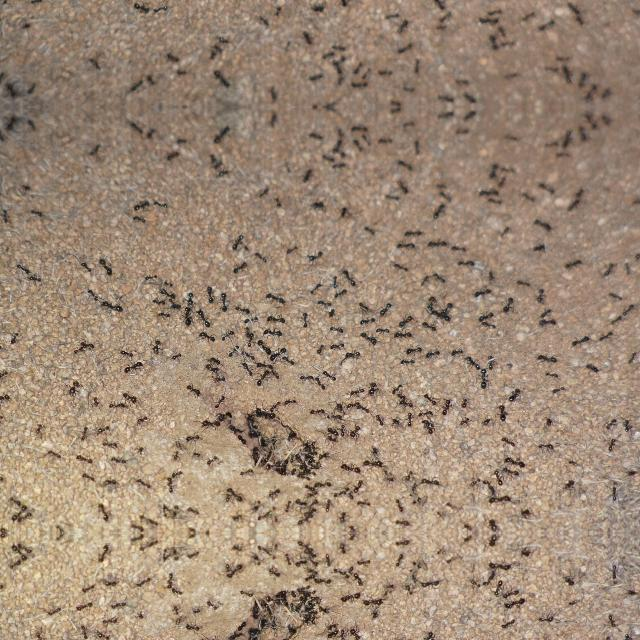Messor: (564, 182, 586, 212), (70, 334, 100, 356), (222, 228, 244, 258), (564, 1, 586, 30), (210, 120, 232, 148), (210, 64, 232, 92), (248, 8, 272, 32), (248, 180, 272, 203), (128, 192, 148, 218), (486, 490, 514, 508), (533, 346, 557, 366), (100, 298, 130, 314), (2, 110, 22, 134), (2, 78, 22, 102), (566, 333, 592, 351), (119, 359, 145, 377), (262, 108, 278, 136), (486, 558, 514, 574), (262, 76, 278, 104), (341, 454, 361, 476), (125, 114, 145, 136), (125, 76, 145, 98), (264, 288, 288, 306), (538, 171, 556, 195), (502, 452, 526, 470), (356, 328, 380, 346), (60, 379, 84, 397), (538, 17, 556, 41), (506, 384, 530, 401), (341, 590, 361, 610), (128, 0, 148, 20), (307, 277, 325, 299), (306, 241, 324, 263), (471, 282, 493, 300), (483, 350, 501, 372), (476, 366, 492, 390), (502, 596, 526, 612), (270, 343, 290, 362), (466, 351, 484, 372), (599, 288, 625, 302), (98, 496, 112, 522), (396, 226, 426, 238), (532, 214, 552, 232), (257, 504, 277, 522), (22, 115, 42, 133), (257, 543, 277, 561), (16, 540, 36, 558), (22, 79, 42, 97), (342, 265, 358, 287), (203, 452, 225, 468), (132, 410, 154, 426), (76, 256, 92, 278), (253, 244, 269, 266), (500, 586, 522, 602), (203, 597, 225, 613), (499, 296, 518, 314), (553, 146, 577, 160), (405, 411, 419, 435), (172, 438, 186, 462), (198, 304, 212, 328), (553, 52, 577, 66), (362, 596, 390, 608), (172, 603, 186, 627), (98, 544, 112, 568), (183, 300, 194, 330), (419, 418, 437, 436), (496, 616, 514, 634), (560, 125, 574, 148), (348, 132, 364, 152), (382, 415, 402, 431), (199, 414, 219, 430), (16, 508, 36, 524), (228, 258, 248, 274), (348, 60, 364, 80), (432, 108, 458, 120), (71, 452, 97, 464), (432, 92, 458, 104), (71, 601, 97, 613), (500, 464, 522, 478), (18, 255, 32, 277), (560, 64, 574, 86), (492, 404, 510, 421), (19, 174, 36, 192), (19, 20, 36, 38), (390, 239, 420, 249), (298, 164, 314, 182), (564, 254, 582, 270), (452, 256, 476, 268), (496, 432, 514, 448), (296, 511, 314, 527), (184, 380, 202, 396), (184, 428, 200, 446), (12, 504, 28, 522), (134, 476, 158, 488), (238, 360, 254, 378), (140, 266, 156, 284), (0, 206, 16, 224), (154, 192, 170, 210), (298, 30, 314, 48), (296, 538, 314, 554), (76, 582, 100, 594), (134, 577, 158, 589), (154, 2, 170, 20), (280, 242, 300, 256), (396, 158, 416, 172), (393, 180, 413, 194), (344, 346, 364, 360), (422, 475, 442, 489), (362, 458, 390, 468), (217, 330, 237, 344), (98, 256, 112, 276), (396, 40, 416, 54), (393, 18, 413, 32), (422, 576, 442, 590), (320, 548, 334, 568), (609, 481, 621, 504), (268, 194, 282, 213), (481, 196, 505, 207), (536, 316, 558, 328), (534, 438, 556, 450), (605, 410, 617, 432), (194, 330, 216, 342), (534, 615, 556, 627), (609, 562, 621, 584), (305, 125, 325, 138), (331, 132, 344, 152), (476, 187, 502, 197), (336, 422, 349, 442), (235, 466, 255, 479), (331, 60, 344, 80), (476, 15, 502, 25), (583, 112, 599, 128), (424, 347, 440, 363), (397, 312, 413, 328), (130, 516, 146, 532), (583, 84, 599, 100), (564, 596, 580, 612), (560, 574, 576, 590), (184, 620, 200, 636), (130, 533, 146, 549), (12, 544, 28, 560), (77, 623, 92, 640), (267, 0, 282, 17), (410, 138, 424, 156), (576, 122, 590, 140), (604, 259, 618, 277), (622, 412, 634, 433), (433, 270, 451, 284), (483, 476, 497, 494), (332, 486, 350, 500), (320, 498, 334, 516), (78, 424, 92, 442), (206, 352, 224, 366), (255, 368, 269, 386), (86, 142, 104, 156), (410, 56, 424, 74), (576, 72, 590, 90), (483, 571, 497, 589), (332, 565, 350, 579), (86, 56, 104, 70), (330, 160, 350, 172), (458, 109, 478, 121), (382, 189, 402, 201), (390, 260, 410, 272), (431, 200, 443, 220), (435, 191, 455, 203), (440, 396, 452, 416), (305, 408, 329, 418), (76, 472, 100, 482), (100, 437, 120, 449), (244, 329, 256, 349), (218, 292, 228, 316), (305, 74, 325, 86), (458, 91, 478, 103), (382, 11, 402, 23), (435, 9, 455, 21), (481, 6, 505, 16), (235, 586, 255, 598), (100, 616, 120, 628), (449, 242, 467, 255), (212, 157, 230, 170), (212, 41, 230, 54), (432, 178, 451, 190), (499, 162, 518, 174), (224, 487, 243, 499), (109, 455, 128, 467), (432, 22, 451, 34), (224, 566, 243, 578), (109, 598, 128, 610), (333, 283, 347, 299), (362, 222, 376, 238), (358, 132, 372, 148), (376, 132, 392, 146), (516, 274, 532, 288), (622, 302, 636, 318), (598, 326, 614, 340), (550, 380, 564, 396), (564, 454, 580, 468), (560, 476, 576, 490), (408, 341, 422, 357), (427, 292, 441, 308), (347, 384, 363, 398), (372, 413, 386, 429), (265, 510, 279, 526), (268, 486, 282, 502), (214, 394, 228, 410), (101, 475, 117, 489), (32, 421, 48, 435), (224, 342, 238, 358), (146, 123, 162, 137), (174, 130, 190, 144), (358, 64, 372, 80), (376, 66, 392, 80), (392, 536, 408, 550), (101, 576, 117, 590), (134, 610, 150, 624), (146, 75, 162, 89), (174, 68, 190, 82), (336, 623, 349, 640), (453, 125, 475, 135), (535, 308, 557, 318), (250, 358, 270, 369), (256, 406, 278, 416), (260, 328, 282, 338), (330, 40, 350, 51), (453, 77, 475, 87), (328, 270, 340, 288), (542, 413, 560, 425), (432, 307, 450, 319), (312, 377, 330, 389), (142, 513, 160, 525), (257, 336, 269, 354), (491, 578, 503, 596), (228, 542, 246, 554), (142, 540, 160, 552), (499, 39, 518, 50), (336, 203, 349, 219), (356, 298, 369, 314), (160, 275, 173, 291), (491, 469, 503, 486), (626, 462, 636, 482), (46, 448, 66, 458), (121, 392, 141, 402), (116, 348, 136, 358), (12, 325, 22, 345), (626, 583, 636, 603), (46, 607, 66, 617), (355, 497, 373, 508), (351, 423, 362, 441), (306, 501, 324, 512), (419, 629, 437, 640), (610, 312, 624, 326), (422, 318, 436, 332), (330, 340, 344, 354), (314, 296, 328, 310), (361, 384, 375, 398), (408, 482, 422, 496), (192, 448, 206, 462), (28, 270, 42, 284), (265, 540, 279, 554), (268, 564, 282, 578), (192, 603, 206, 617), (505, 128, 517, 144), (601, 114, 613, 130), (530, 240, 546, 252), (534, 288, 546, 304), (419, 272, 431, 288), (422, 391, 438, 403), (392, 516, 408, 528), (317, 477, 333, 489), (293, 496, 309, 508), (170, 502, 182, 518), (10, 492, 22, 508), (134, 442, 150, 454), (234, 301, 250, 313), (133, 208, 145, 224), (505, 68, 517, 84), (601, 82, 613, 98), (317, 576, 333, 588), (293, 557, 309, 569), (96, 628, 112, 640), (105, 402, 126, 411), (428, 238, 446, 248), (488, 162, 498, 180), (380, 300, 390, 318), (356, 406, 374, 416), (168, 468, 186, 478), (228, 512, 246, 522), (208, 284, 218, 302), (30, 201, 40, 219), (488, 32, 498, 50), (355, 558, 373, 568), (306, 554, 324, 564), (168, 587, 186, 597), (382, 106, 404, 114), (452, 342, 463, 358), (374, 326, 396, 334), (382, 98, 404, 106), (350, 624, 361, 640), (243, 324, 253, 341), (442, 300, 454, 314), (218, 410, 232, 422), (186, 505, 200, 517), (89, 394, 103, 406), (284, 352, 296, 366), (88, 288, 100, 302), (168, 146, 180, 160), (498, 26, 510, 40), (408, 570, 422, 582), (307, 564, 319, 578), (186, 548, 200, 560), (170, 548, 182, 562), (10, 558, 22, 572), (168, 52, 180, 66), (308, 200, 328, 208), (607, 436, 617, 452), (326, 304, 336, 320), (284, 396, 300, 406), (298, 480, 314, 490), (234, 435, 250, 445), (96, 426, 112, 436), (242, 312, 258, 322), (160, 282, 170, 298), (308, 4, 328, 12), (298, 575, 314, 585), (284, 552, 294, 568), (234, 620, 250, 630), (498, 172, 510, 185), (487, 268, 498, 282), (392, 498, 403, 512), (32, 630, 47, 640), (300, 308, 308, 326), (353, 477, 362, 493), (334, 400, 346, 412), (307, 488, 319, 500), (250, 500, 262, 512), (160, 504, 168, 522), (0, 392, 16, 401), (204, 356, 213, 372), (431, 0, 443, 12), (353, 572, 362, 588), (250, 553, 262, 565), (320, 151, 334, 161), (584, 362, 598, 372), (360, 315, 374, 325), (395, 392, 409, 402), (458, 414, 468, 428), (470, 474, 480, 488), (284, 498, 294, 512), (152, 338, 162, 352), (320, 51, 334, 61), (607, 614, 617, 628), (487, 534, 497, 548), (405, 630, 419, 640), (628, 349, 636, 366), (187, 283, 193, 305), (392, 554, 403, 566), (391, 382, 404, 392), (622, 258, 630, 274), (415, 410, 431, 418), (165, 475, 173, 491), (352, 80, 368, 88), (165, 574, 173, 590), (160, 544, 168, 560), (346, 402, 360, 411), (318, 448, 329, 459), (402, 118, 414, 128), (574, 185, 584, 197), (524, 190, 534, 202), (500, 225, 512, 235), (540, 372, 560, 378), (316, 340, 326, 352), (324, 370, 336, 380), (393, 398, 413, 404), (480, 415, 490, 427), (487, 518, 497, 530), (405, 471, 415, 483), (326, 414, 346, 420), (326, 432, 336, 444), (305, 507, 317, 517), (228, 422, 240, 432), (170, 296, 180, 308), (402, 84, 414, 94), (574, 15, 584, 27), (524, 10, 534, 22), (470, 578, 480, 590), (405, 582, 415, 594), (382, 634, 402, 640), (326, 621, 336, 633), (305, 548, 317, 558), (336, 0, 349, 9), (352, 125, 368, 132), (301, 373, 315, 381), (325, 425, 339, 433), (214, 374, 228, 382), (325, 632, 339, 640), (318, 606, 329, 616), (30, 0, 40, 11), (170, 352, 182, 361), (268, 316, 286, 322), (209, 150, 215, 168), (209, 44, 215, 62), (547, 138, 557, 148), (334, 323, 344, 333), (222, 490, 232, 500), (270, 369, 280, 379), (220, 168, 230, 178), (547, 64, 557, 74), (199, 635, 219, 640), (222, 565, 232, 575), (220, 34, 230, 44), (622, 631, 633, 640), (0, 370, 12, 378), (272, 396, 278, 412), (153, 298, 165, 306), (605, 632, 617, 640), (0, 0, 16, 6), (333, 126, 342, 136), (333, 76, 342, 86), (311, 440, 317, 454), (160, 312, 174, 318), (311, 611, 317, 625), (228, 633, 240, 640), (461, 398, 469, 408), (523, 506, 531, 516), (462, 519, 472, 527), (338, 510, 346, 520), (462, 538, 472, 546), (338, 545, 346, 555), (348, 491, 357, 499), (348, 566, 357, 574), (632, 252, 640, 260), (523, 550, 531, 558), (372, 636, 386, 640), (133, 0, 145, 3), (458, 637, 467, 640)
